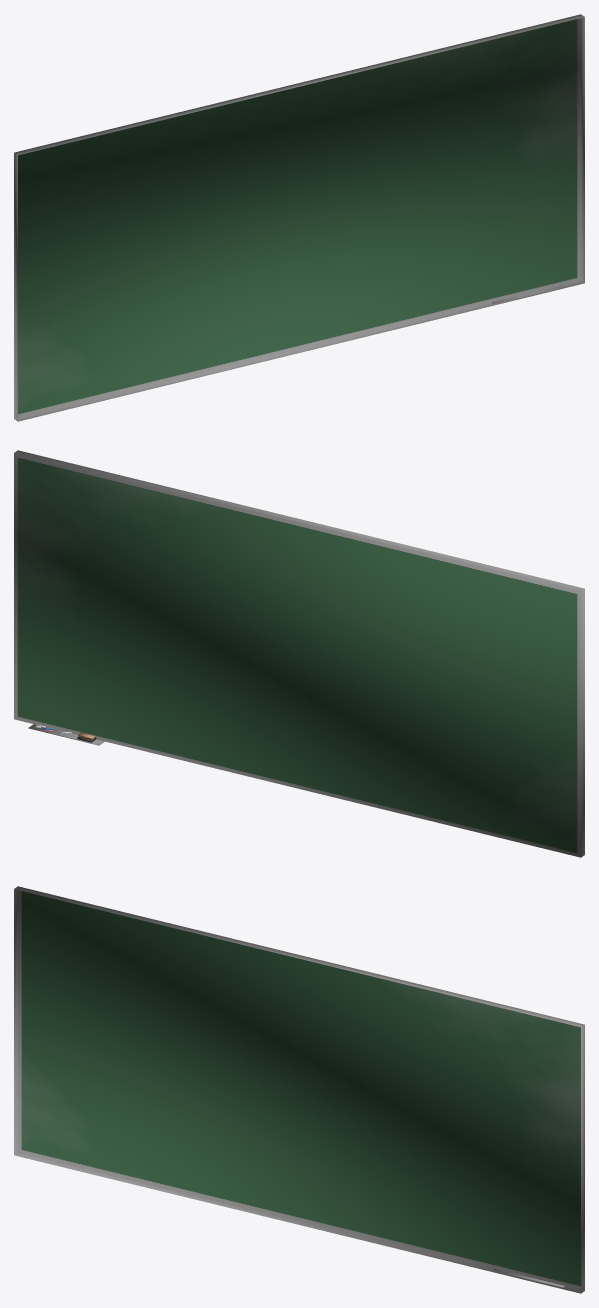
The model's file is Chalkboard.fbx.
The picture shows the model from 3 angles, top to bottom: view 1: azimuth 30°, elevation 25°; view 2: azimuth 150°, elevation 25°; view 3: azimuth 330°, elevation 25°; orthographic projection.
Parts seen in each view (by area): view 1: Blackboard LP; view 2: Blackboard LP; view 3: Blackboard LP.
Part boxes in pixels (left/top/right/bottom): Blackboard LP: left=14, top=14, right=584, bottom=421; Blackboard LP: left=14, top=450, right=584, bottom=857; Blackboard LP: left=14, top=886, right=584, bottom=1293.
Size of the model in its own units: 400 by 180 by 12.11.
Materials: 1 (1 with a texture image).
